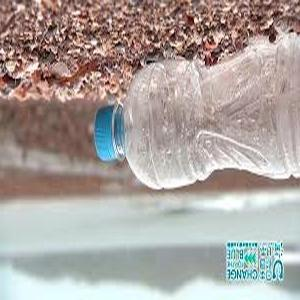Plastic: (94, 32, 300, 194)
